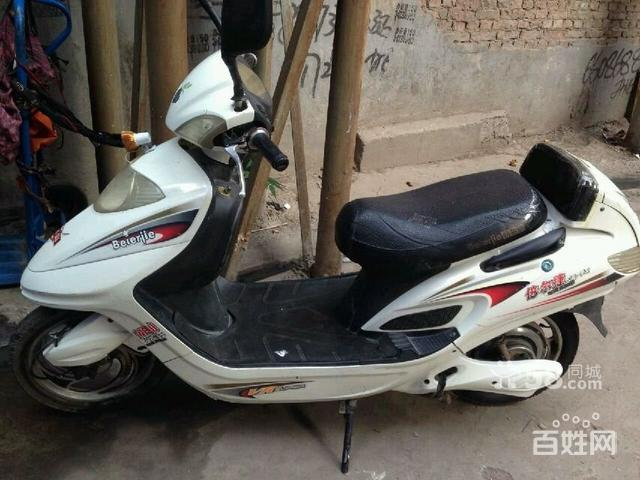电动车: (5, 4, 640, 440)
